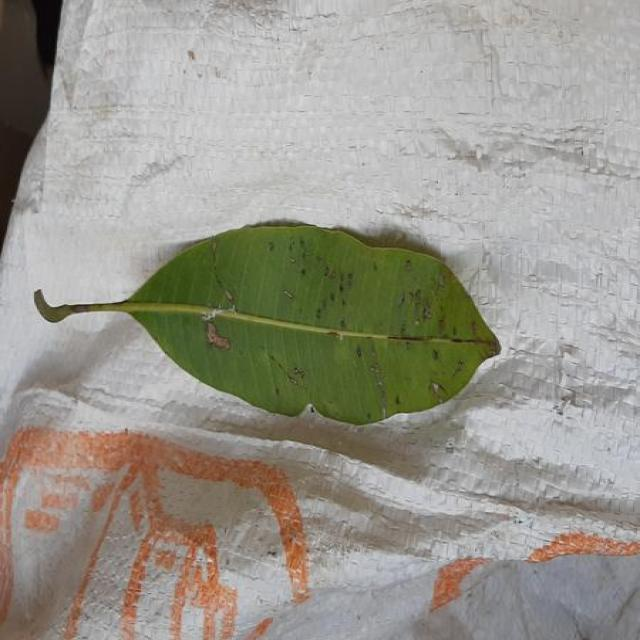Anthracnose: (76, 225, 500, 424)
mango: (33, 225, 500, 423)
